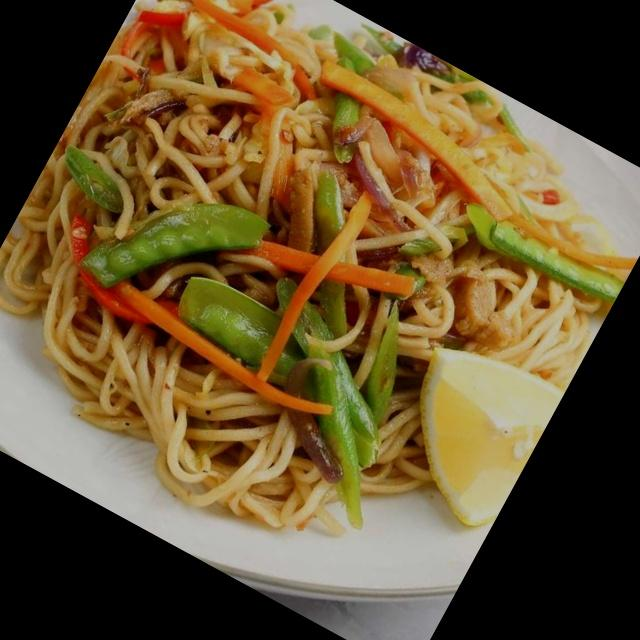pancit bihon: (0, 1, 611, 544)
